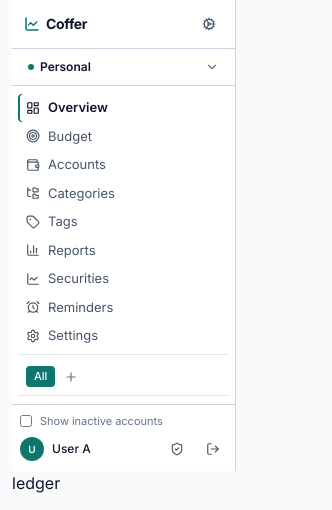
Test case: AuthedSidebar › the ⌄ chevron opens the switch-ledger dropdown
Step 1. Click the button with aria-label "switch ledger" → (124, 67), box [20,55,227,79]
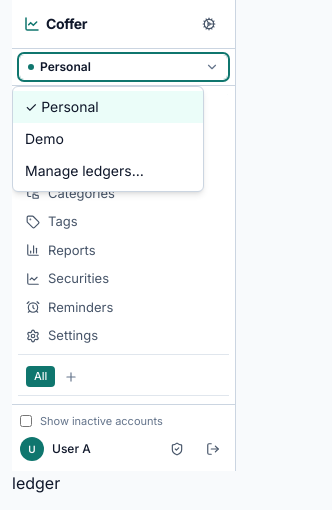
Now the text "Demo" is shown, box [25,129,64,149]
